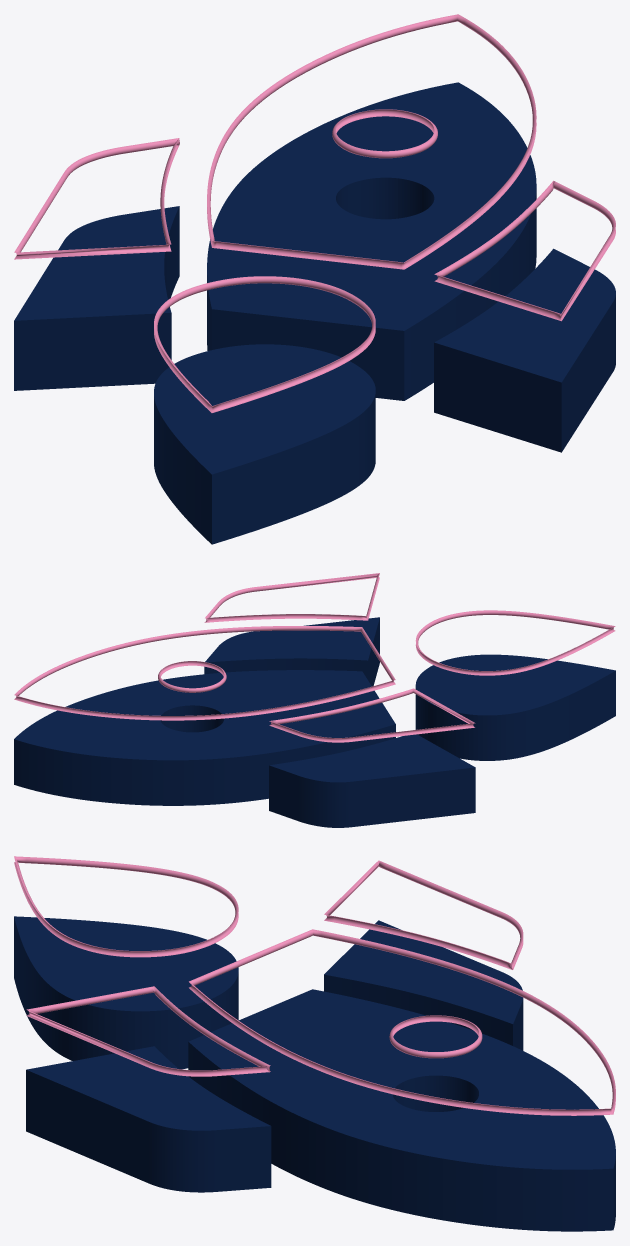
Rendered from Rocket01.gltf.
3 renders of one model, top to bottom at view 1: azimuth 30°, elevation 25°; view 2: azimuth 150°, elevation 25°; view 3: azimuth 270°, elevation 25°, orthographic. The views are drawn at different scales.
Parts seen in each view (by area): view 1: Curve.005, Curve.006, Curve.004, Curve.007, Curve.002, Curve.001, Curve, Curve.003; view 2: Curve.005, Curve.006, Curve.007, Curve.004, Curve.002, Curve.001, Curve, Curve.003; view 3: Curve.005, Curve.004, Curve.006, Curve.007, Curve.002, Curve.003, Curve.001, Curve.
Boxes of the visible parts, bbox=[...] form: Curve.005: bbox=[207, 82, 536, 400]; Curve.006: bbox=[154, 344, 375, 544]; Curve.004: bbox=[434, 248, 615, 452]; Curve.007: bbox=[14, 206, 179, 390]; Curve.002: bbox=[207, 14, 536, 269]; Curve.001: bbox=[154, 276, 375, 412]; Curve: bbox=[14, 138, 179, 259]; Curve.003: bbox=[434, 180, 615, 321]; Curve.005: bbox=[14, 670, 395, 805]; Curve.006: bbox=[415, 654, 615, 760]; Curve.007: bbox=[269, 734, 475, 827]; Curve.004: bbox=[204, 617, 379, 686]; Curve.002: bbox=[14, 626, 395, 720]; Curve.001: bbox=[415, 610, 615, 675]; Curve: bbox=[269, 688, 475, 742]; Curve.003: bbox=[204, 573, 379, 622]; Curve.005: bbox=[188, 989, 615, 1231]; Curve.004: bbox=[26, 1046, 271, 1192]; Curve.006: bbox=[14, 916, 238, 1069]; Curve.007: bbox=[324, 920, 523, 1050]; Curve.002: bbox=[189, 929, 615, 1115]; Curve.003: bbox=[26, 986, 270, 1076]; Curve.001: bbox=[14, 856, 238, 957]; Curve: bbox=[324, 860, 523, 969].
Bounding box in the file's own units: 4.53 × 1.02 × 4.55.
